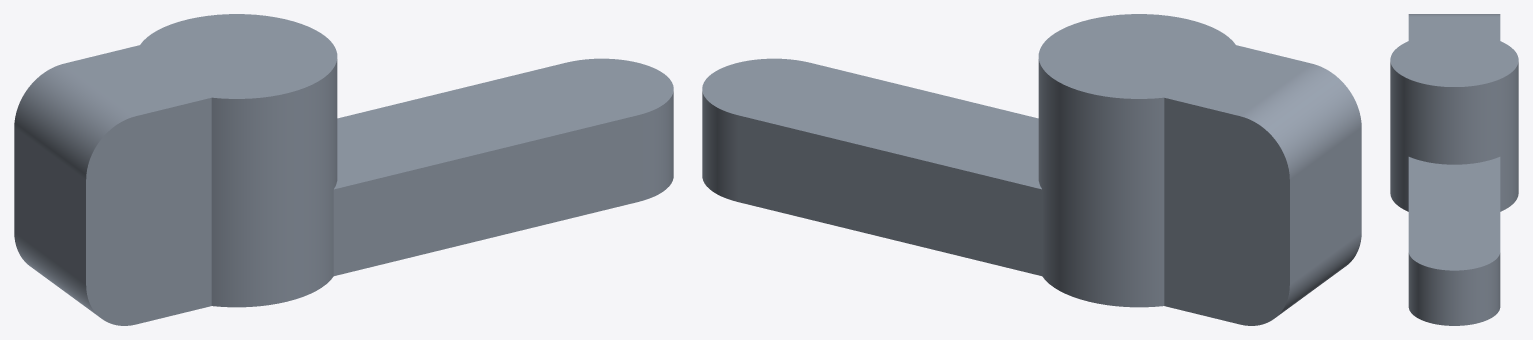
Rendered from step_03.glb.
3 renders of one model, left to right at view 1: azimuth 30°, elevation 25°; view 2: azimuth 150°, elevation 25°; view 3: azimuth 270°, elevation 25°, orthographic. The views are drawn at different scales.
Parts seen in each view (by area): view 1: part__split clamp lever; view 2: part__split clamp lever; view 3: part__split clamp lever.
Part boxes in pixels (box(x1,y1,x2,y2)): part__split clamp lever: box(14, 14, 673, 325); part__split clamp lever: box(702, 14, 1361, 325); part__split clamp lever: box(1390, 14, 1518, 325).
Size of the model in its own units: 148 by 48 by 42.
